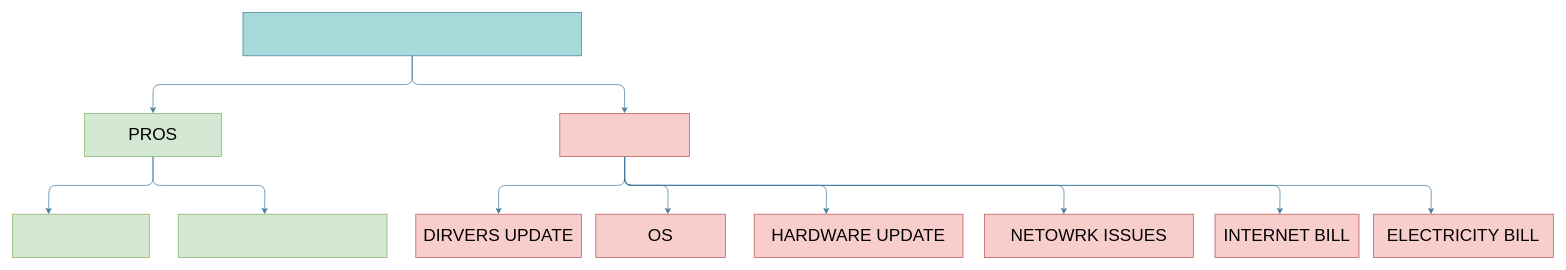
This 1566x270 diagram has some shape labels left out. Here are the shapes that lost their labels. From the top down, the centre of each, then its label:
point 411,34: Bare metal Server
point 624,135: CONS
point 80,235: Data Privacy
point 282,235: Hardware Optimization
